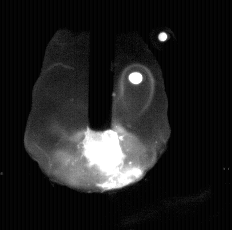arame: (88, 0, 114, 131)
poca: (23, 0, 169, 230)
